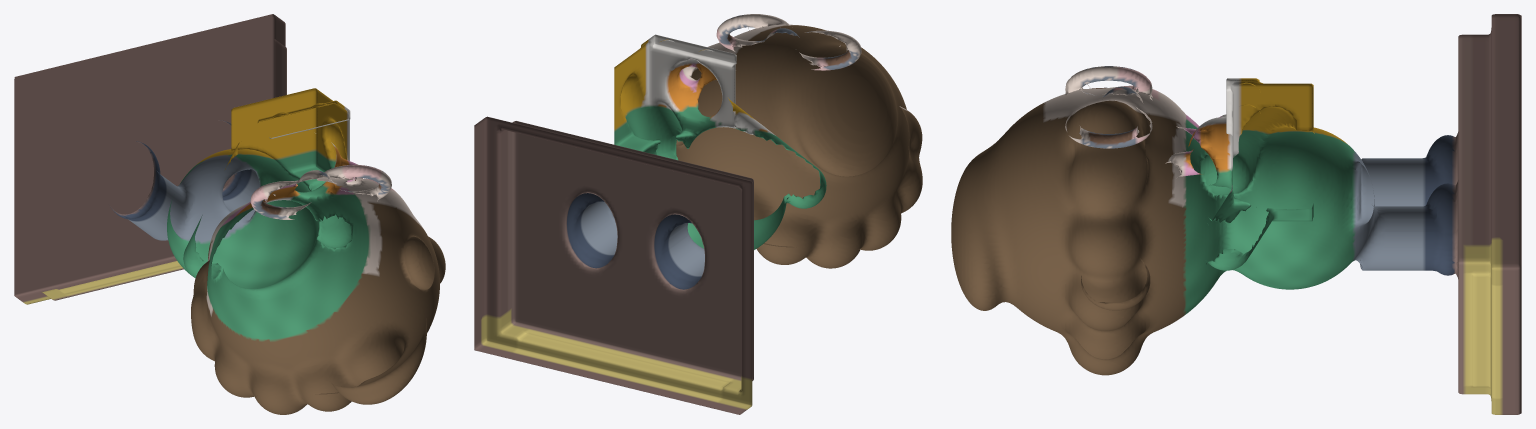
Rendered from schrodinger_chibi_colored.glb.
The picture shows the model from 3 angles, left to right: view 1: azimuth 30°, elevation 25°; view 2: azimuth 150°, elevation 25°; view 3: azimuth 270°, elevation 25°; orthographic projection. The views are drawn at different scales.
Visible parts, largest first — view 1: Quantum_Schrodinger; view 2: Quantum_Schrodinger; view 3: Quantum_Schrodinger.
Part boxes in pixels (x1=…): Quantum_Schrodinger: x1=14, y1=14, x2=445, y2=414; Quantum_Schrodinger: x1=474, y1=14, x2=922, y2=414; Quantum_Schrodinger: x1=951, y1=14, x2=1521, y2=414.
Size of the model in its own units: 52 by 47.06 by 85.
